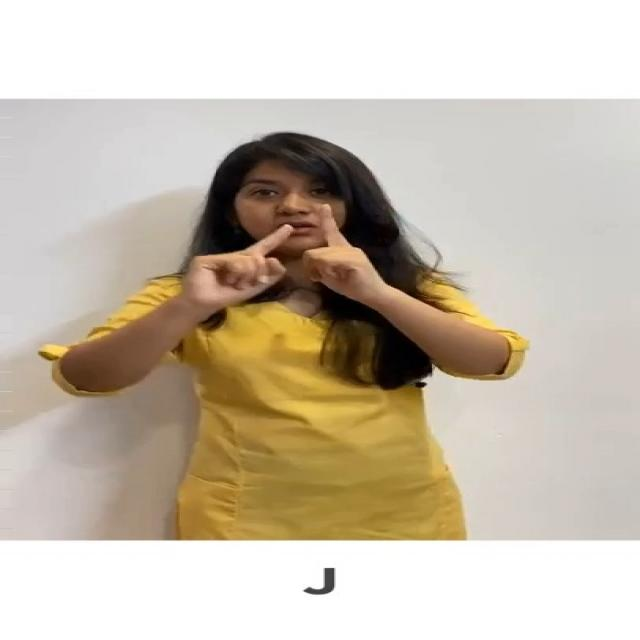J: (181, 196, 397, 331)
